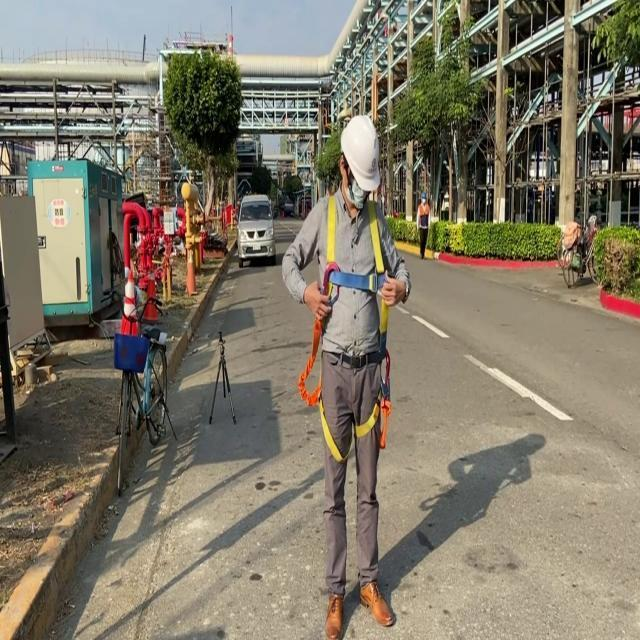Harness: (298, 320, 347, 462), (322, 196, 387, 294), (355, 301, 392, 450)
